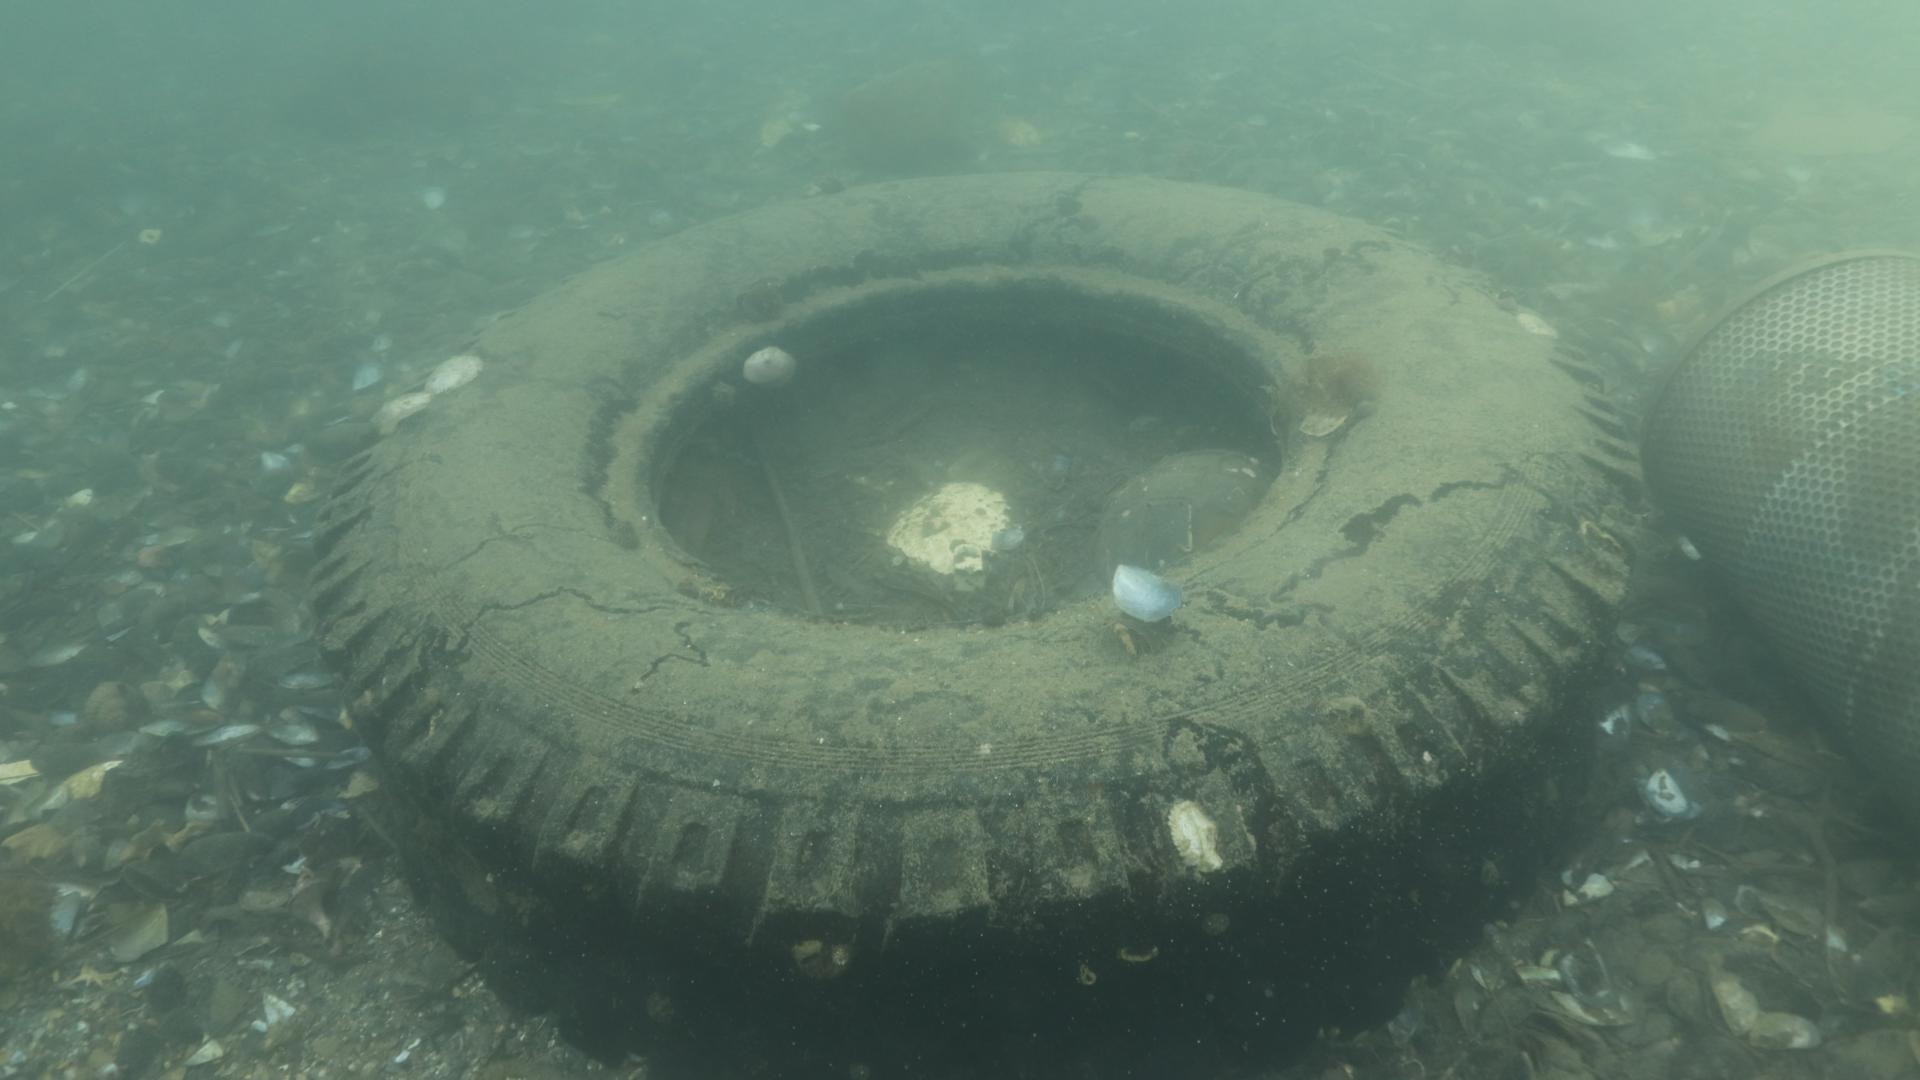tire: (305, 169, 1644, 1080)
